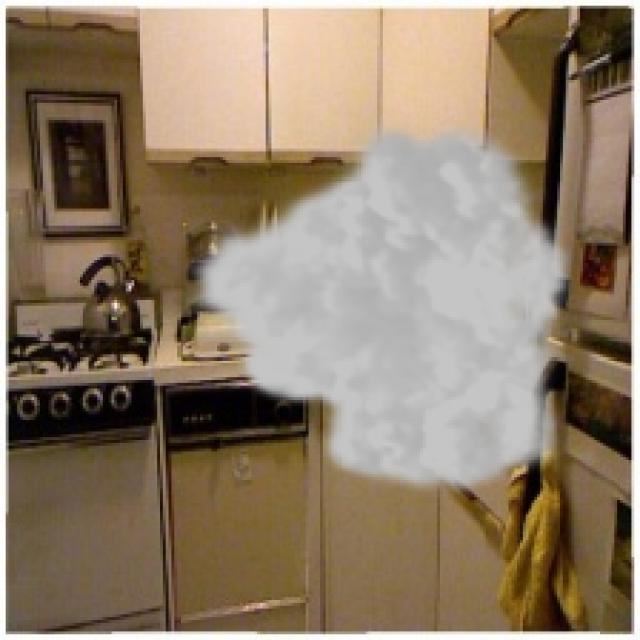smoke: (183, 111, 574, 500)
